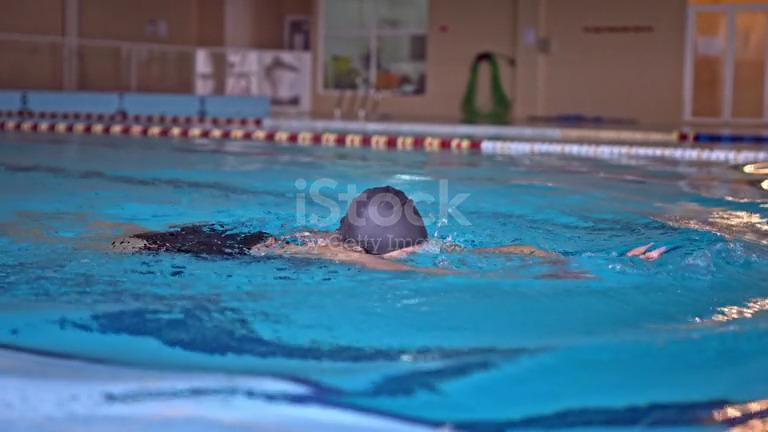Swimming: (39, 119, 625, 342)
